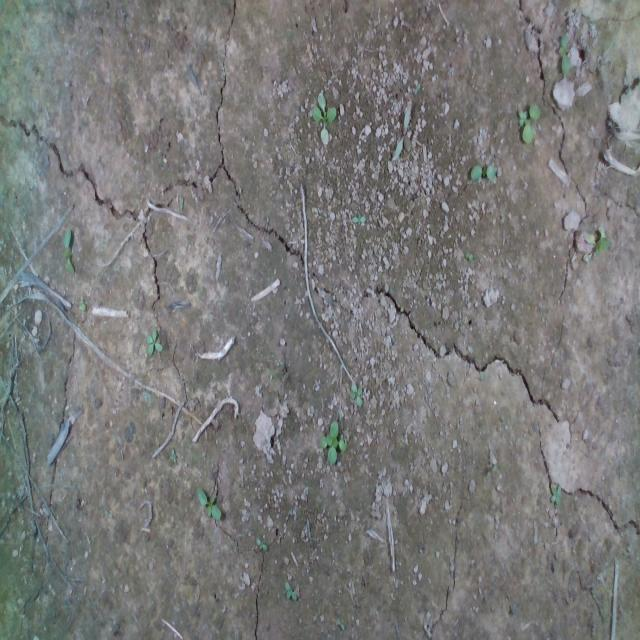weed: (320, 418, 344, 472), (309, 90, 336, 129), (195, 485, 222, 523), (473, 156, 505, 186), (519, 97, 536, 147), (282, 577, 300, 609), (352, 380, 368, 412), (147, 327, 163, 358)
